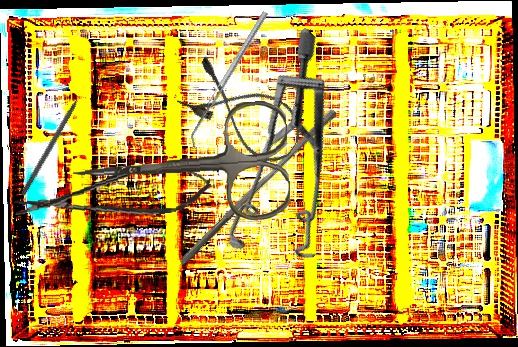Cannula: (174, 53, 312, 171)
Hook Surgical: (20, 84, 89, 197)
Iris Scissors: (69, 99, 292, 231)
Micro Scissor: (12, 161, 213, 227)
Pusher: (178, 102, 338, 273)
Spatula Surgical: (184, 10, 274, 149)
Speculum: (161, 27, 425, 292)
